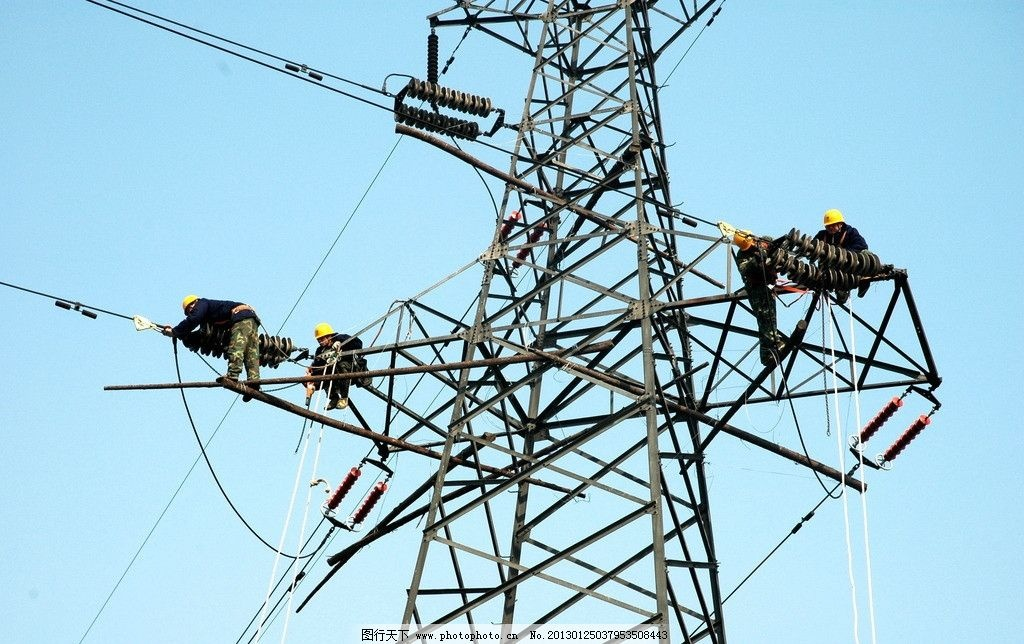yellow: (819, 206, 847, 236), (308, 320, 335, 349), (176, 291, 201, 316)
